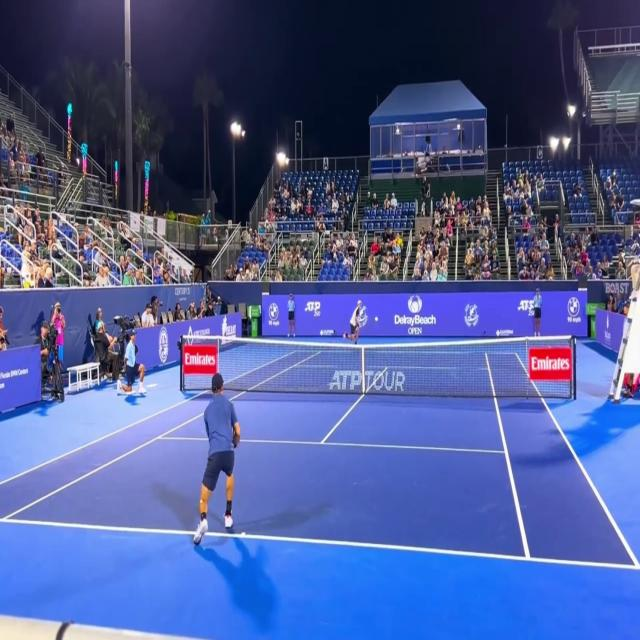tennisBall: (373, 316, 380, 324)
